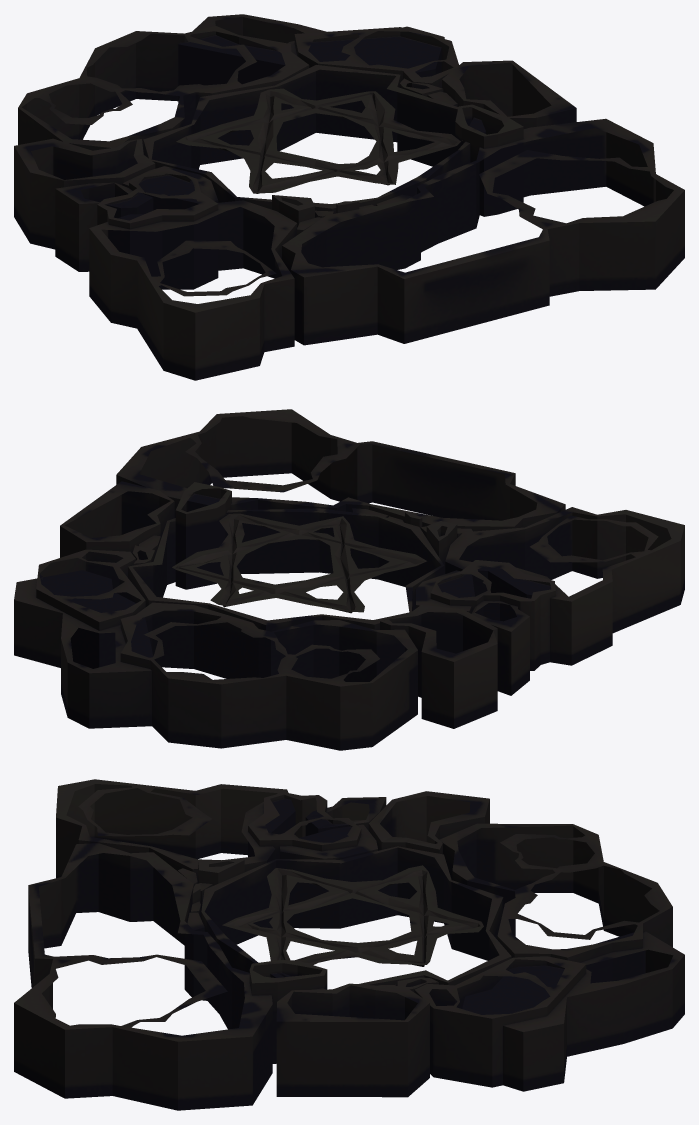
The model's file is Ground_01.FBX.
The picture shows the model from 3 angles, top to bottom: view 1: azimuth 30°, elevation 25°; view 2: azimuth 150°, elevation 25°; view 3: azimuth 270°, elevation 25°; orthographic projection. The views are drawn at different scales.
Visible parts, largest first — view 1: Ground_01; view 2: Ground_01; view 3: Ground_01.
Part boxes in pixels (<box>): Ground_01: <box>14,14,684,380</box>; Ground_01: <box>14,409,684,750</box>; Ground_01: <box>14,779,684,1110</box>.
Size of the model in its own units: 18.04 by 2.61 by 19.49.
